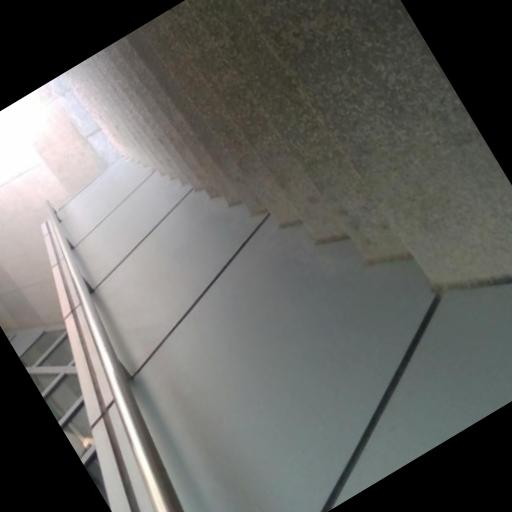stairs: (65, 0, 511, 284)
